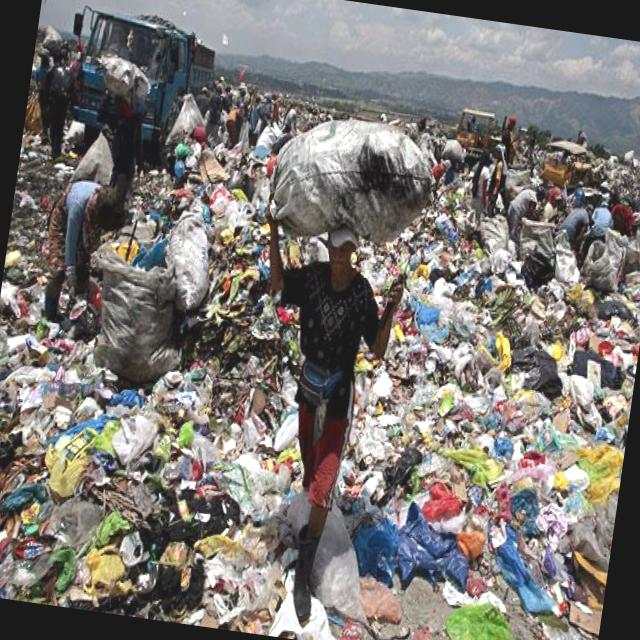garbage: (329, 189, 640, 640), (0, 118, 272, 627), (245, 94, 460, 254)
